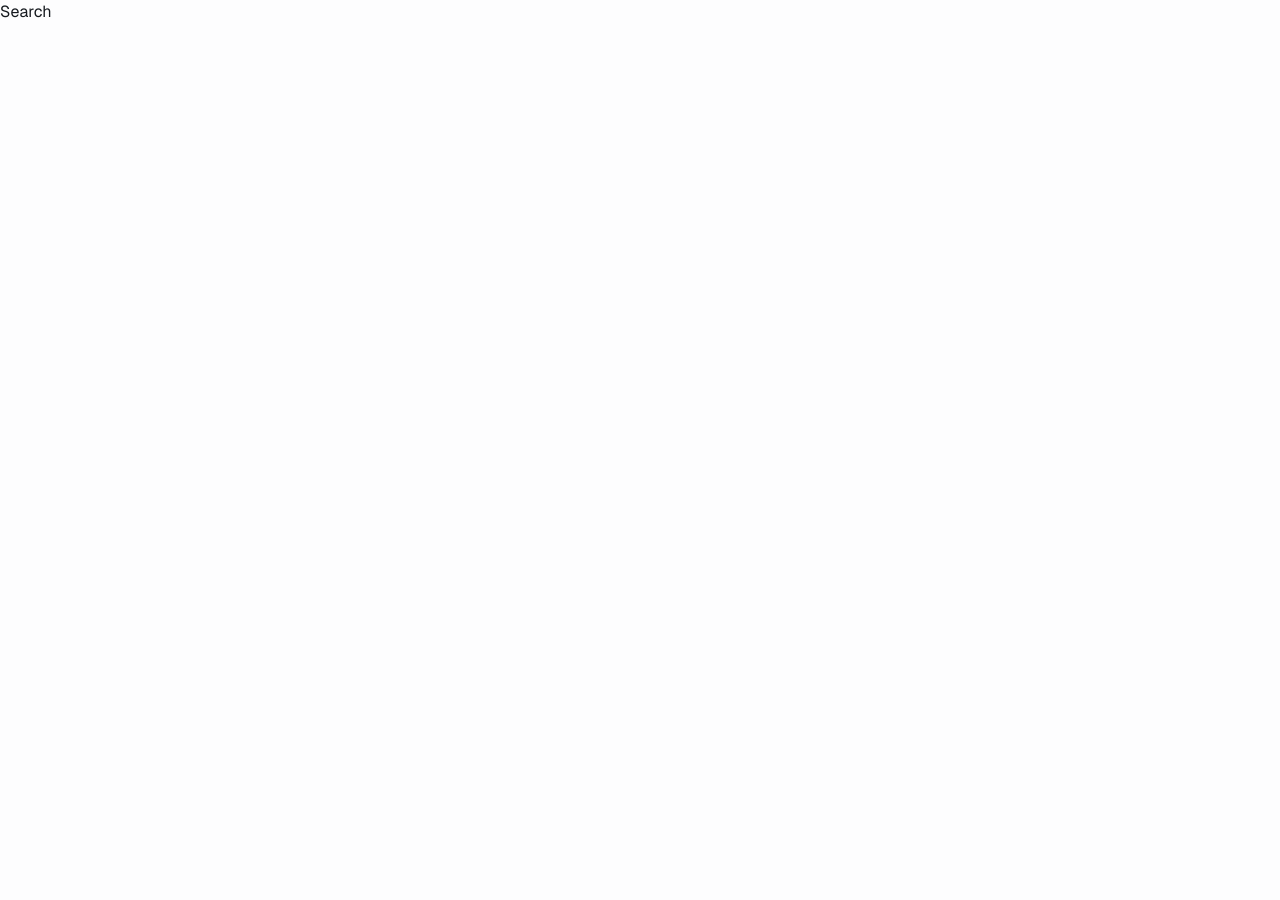
Test: searching and running › says so when nothing matches, and keeps the input usable
Press k
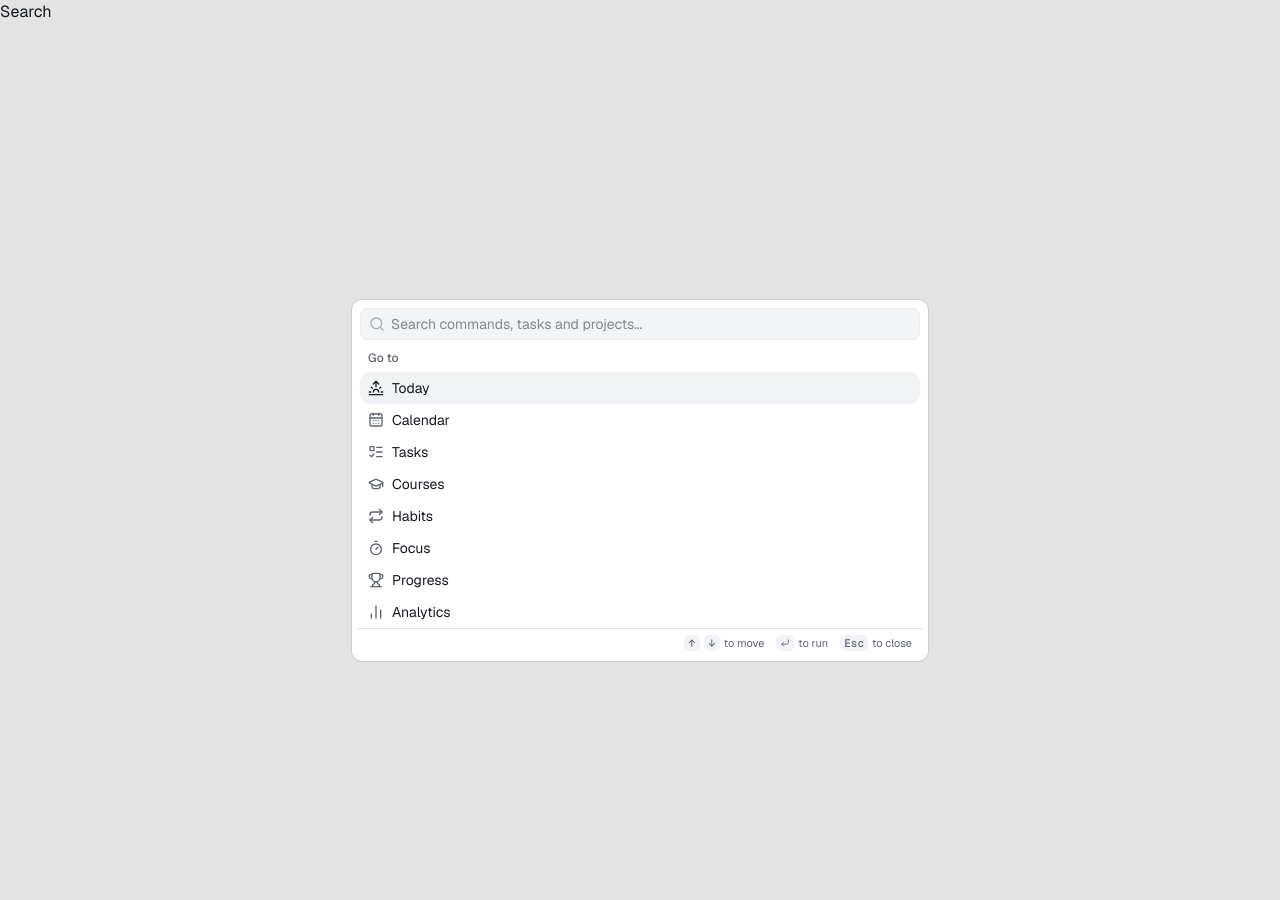
Type "zzzzzz" into the dropdown at [652, 324], box [385,314,919,334]
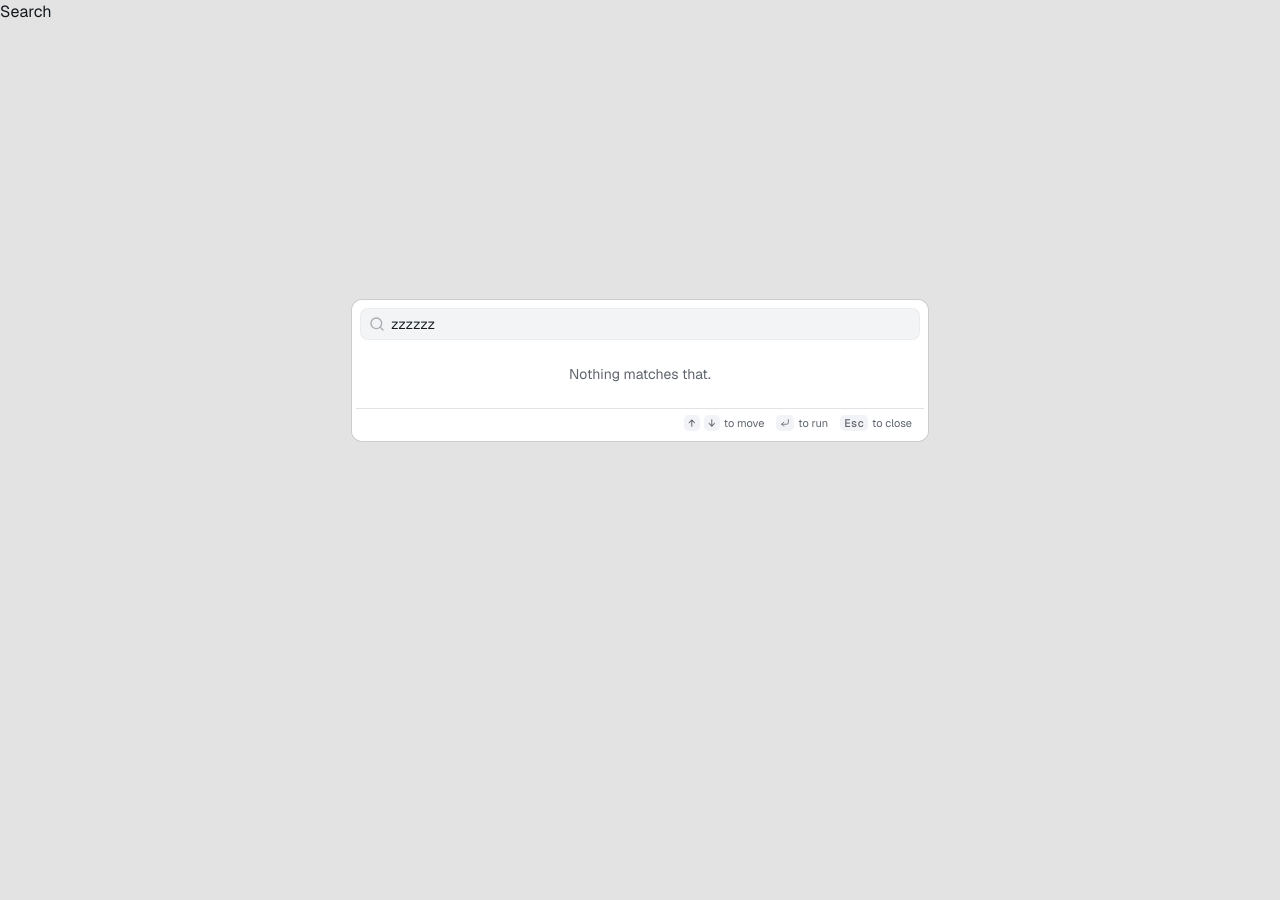
Check: the text "Nothing matches that." is shown, box [569,365,711,383]
